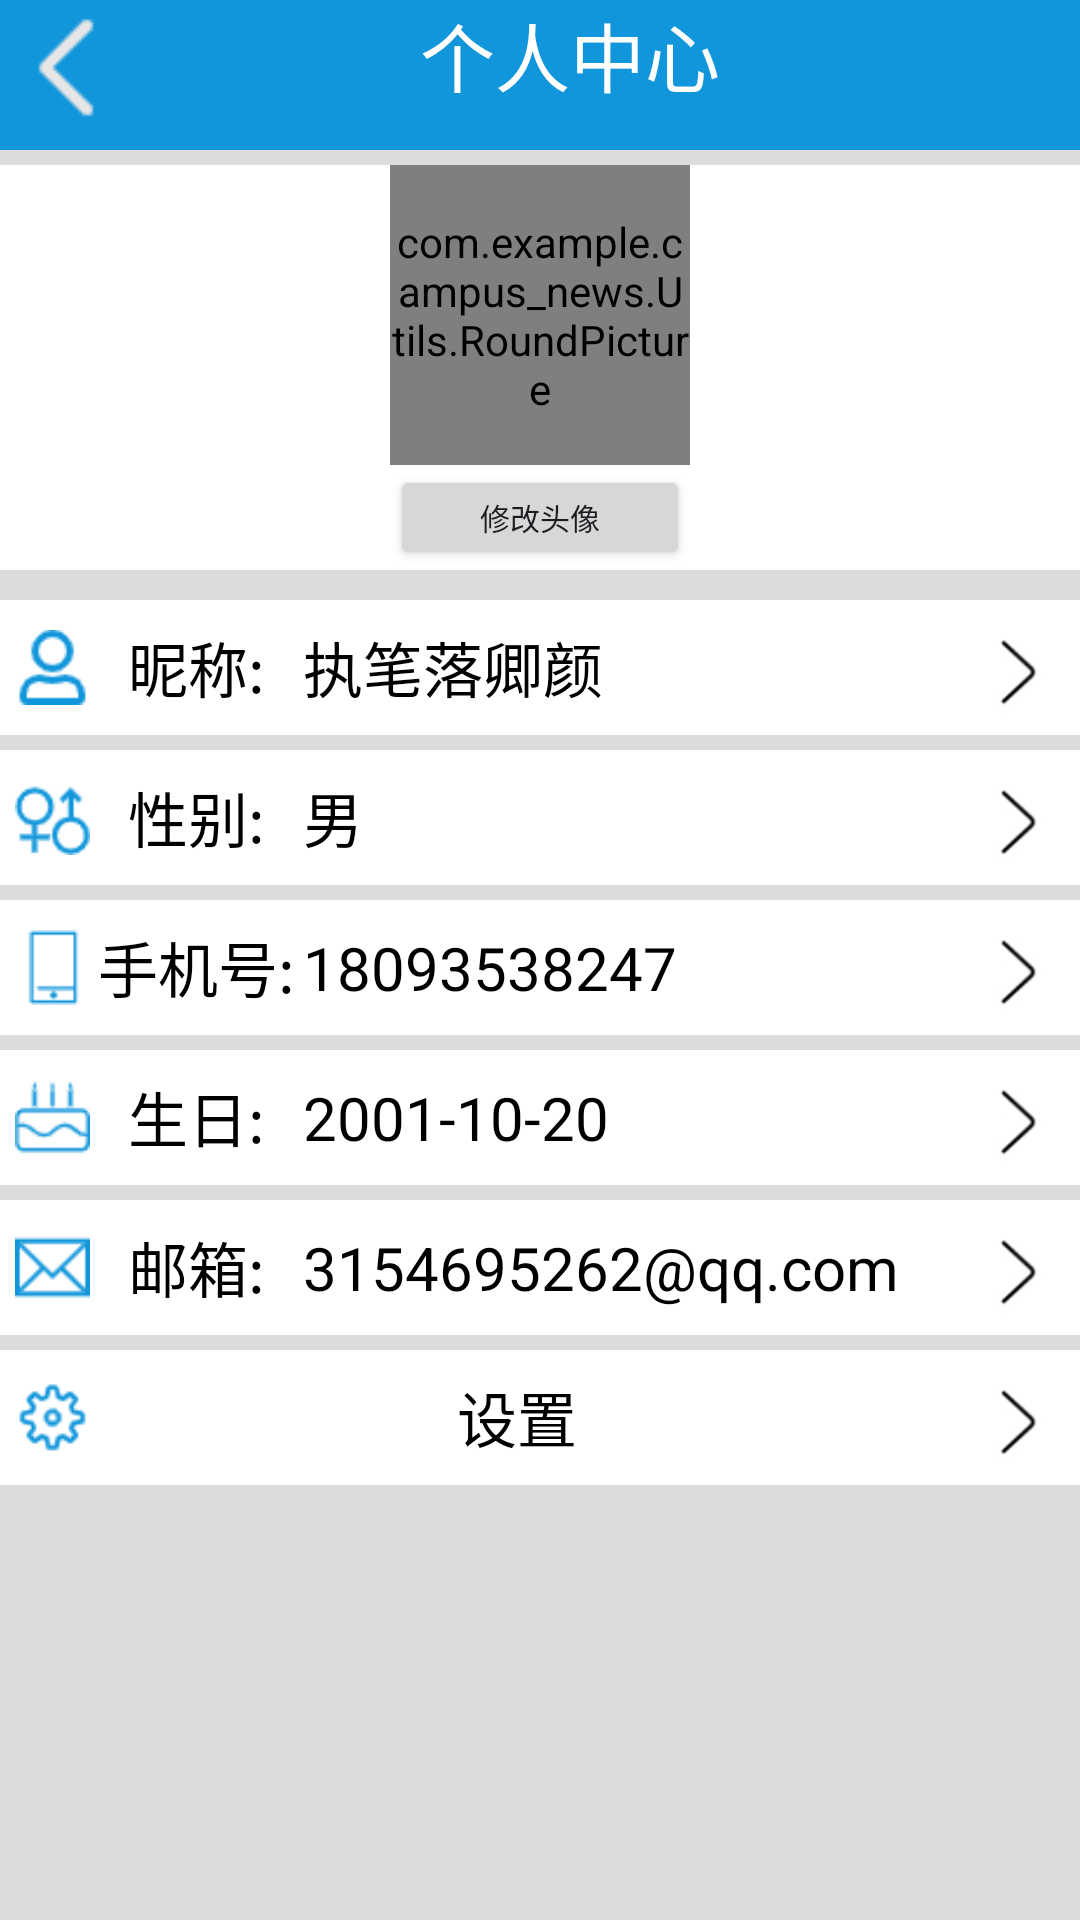

Named icons in this screenshot (1080 x 1920) and their bounding boxes, [left=x1, top=y1, right=x2, bottom=y2]:
back: [left=38, top=19, right=94, bottom=116]
birthday: [left=15, top=1082, right=90, bottom=1153]
email: [left=15, top=1237, right=90, bottom=1298]
phone: [left=28, top=930, right=79, bottom=1005]
setting: [left=19, top=1384, right=86, bottom=1451]
sex: [left=15, top=786, right=90, bottom=855]
user name: [left=19, top=630, right=86, bottom=705]
